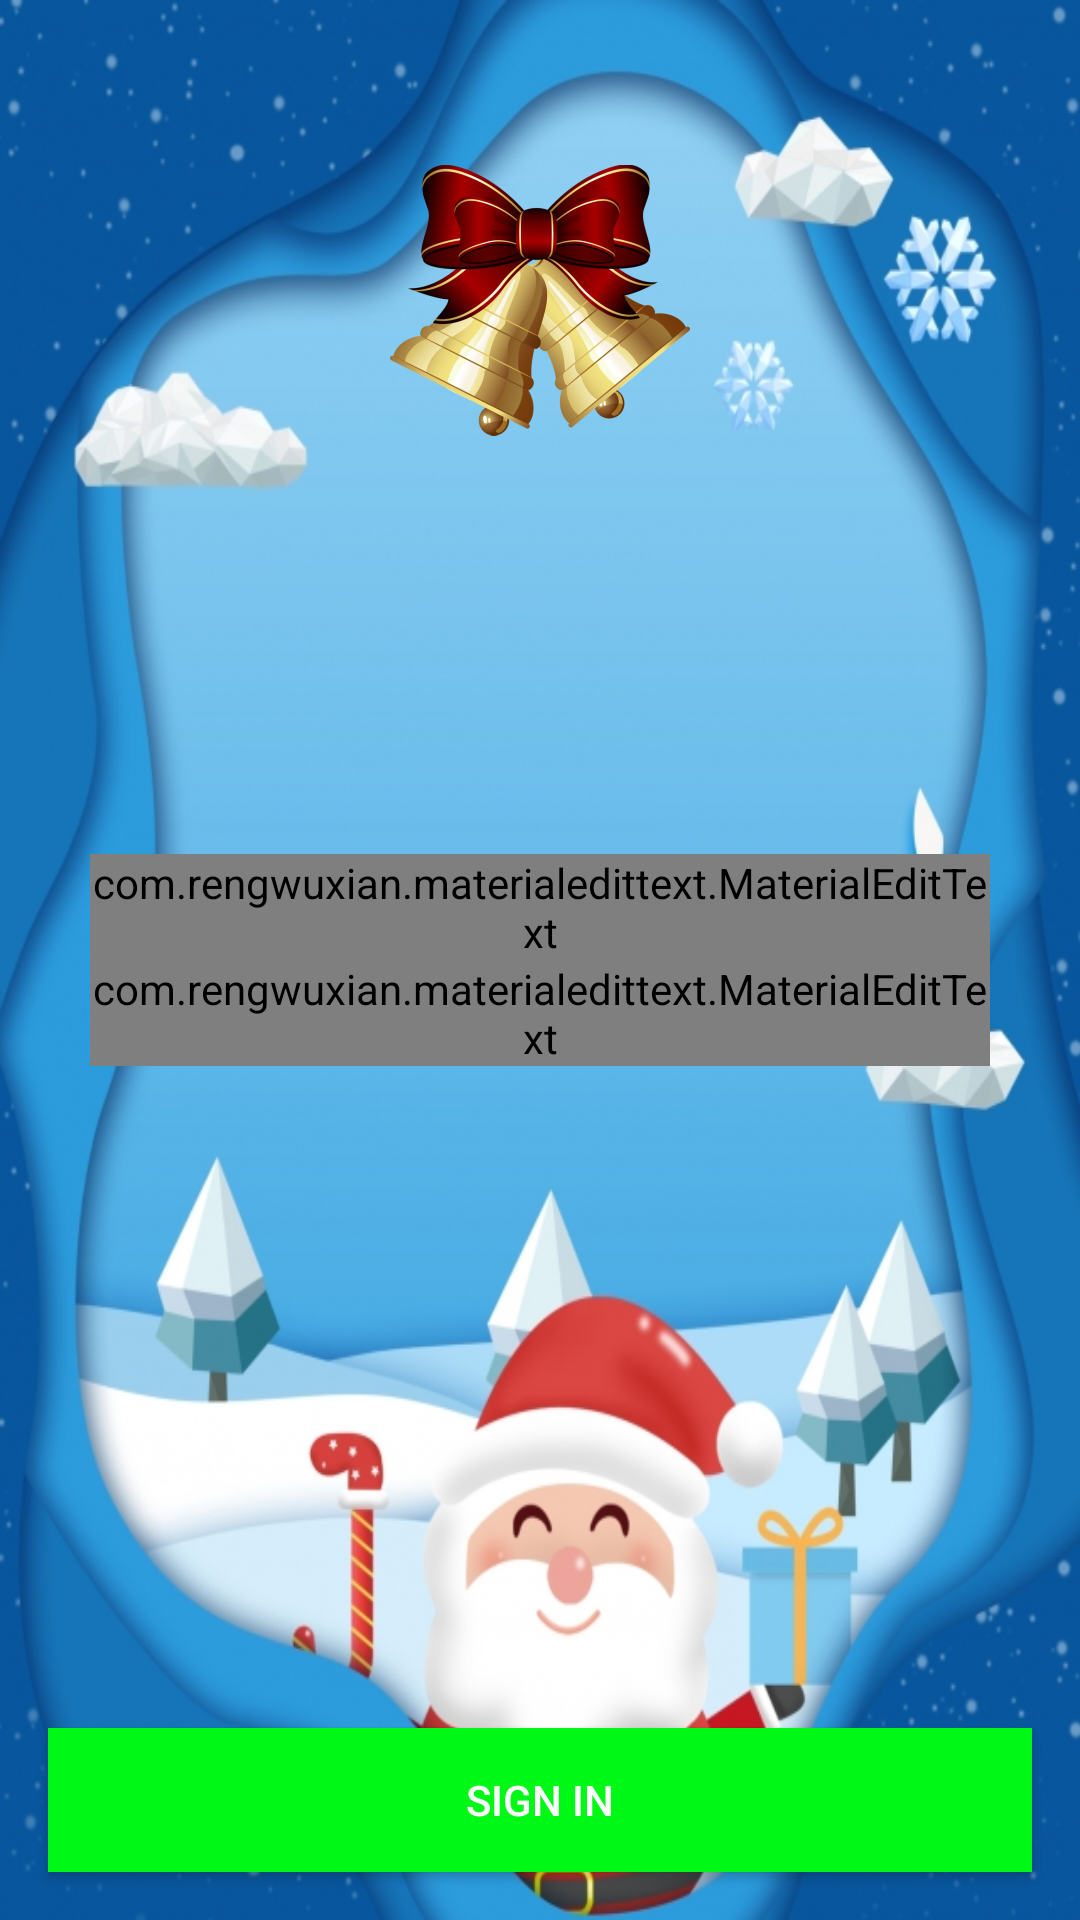

Where to tap for icons on this 1080w x 1920h app screen, as (x,y):
chuongnoelthree: (540,293)
